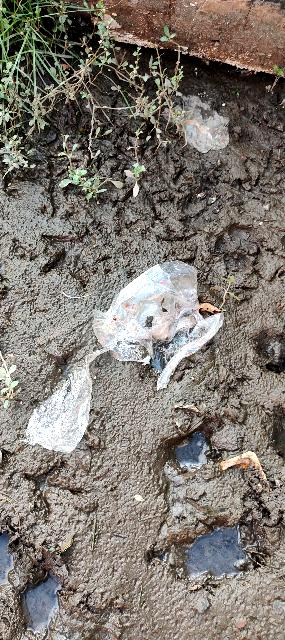polythene: (44, 254, 212, 441)
